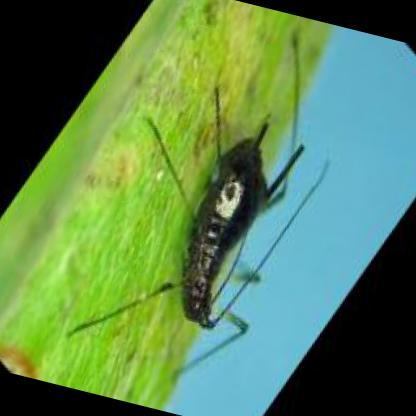uroleucon compositae: (181, 128, 307, 328)
